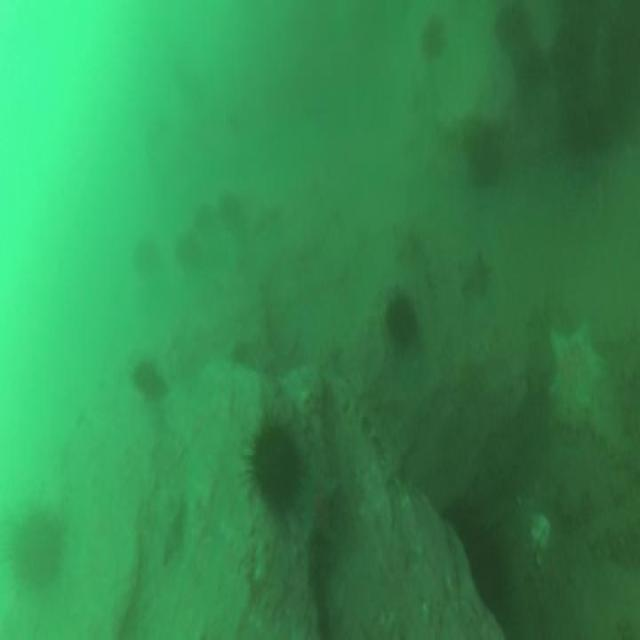echinus: (252, 426, 300, 506), (468, 125, 502, 185), (385, 294, 416, 343), (134, 362, 167, 401)
starfish: (550, 324, 609, 409), (301, 455, 335, 539), (460, 253, 490, 294)
